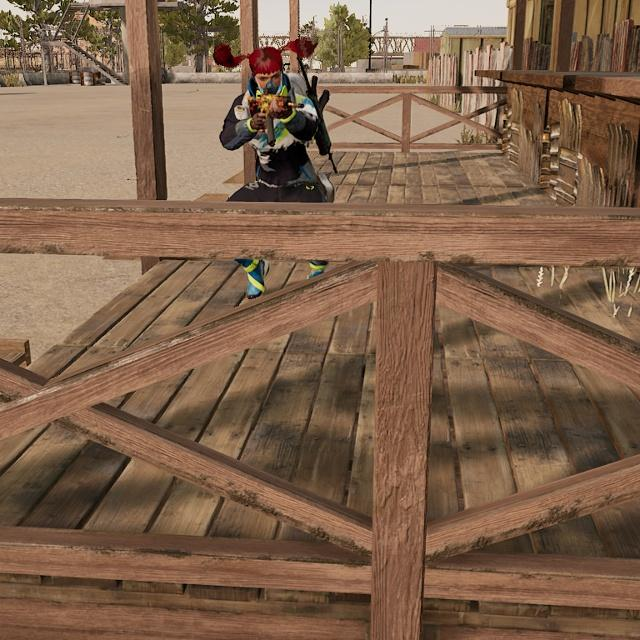head: (245, 45, 296, 105)
people: (214, 44, 351, 304)
